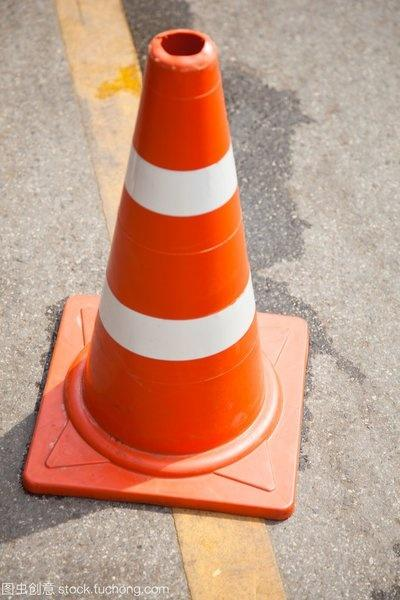cone_barrel: (76, 21, 281, 465)
